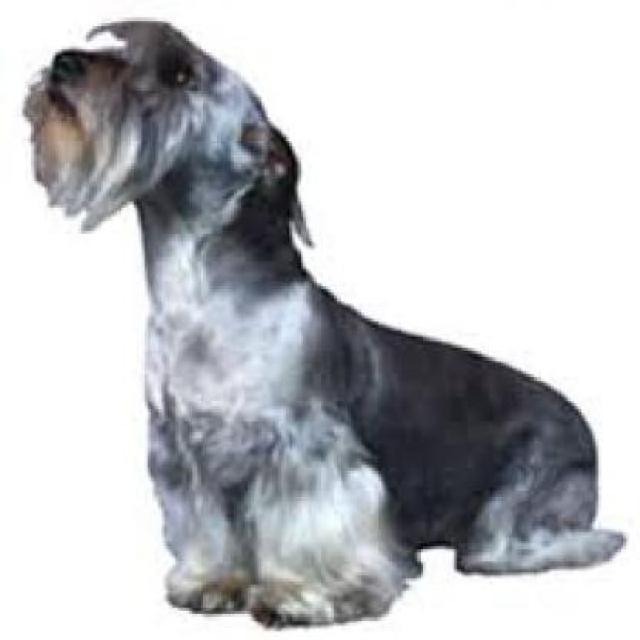animals: (19, 19, 632, 606)
